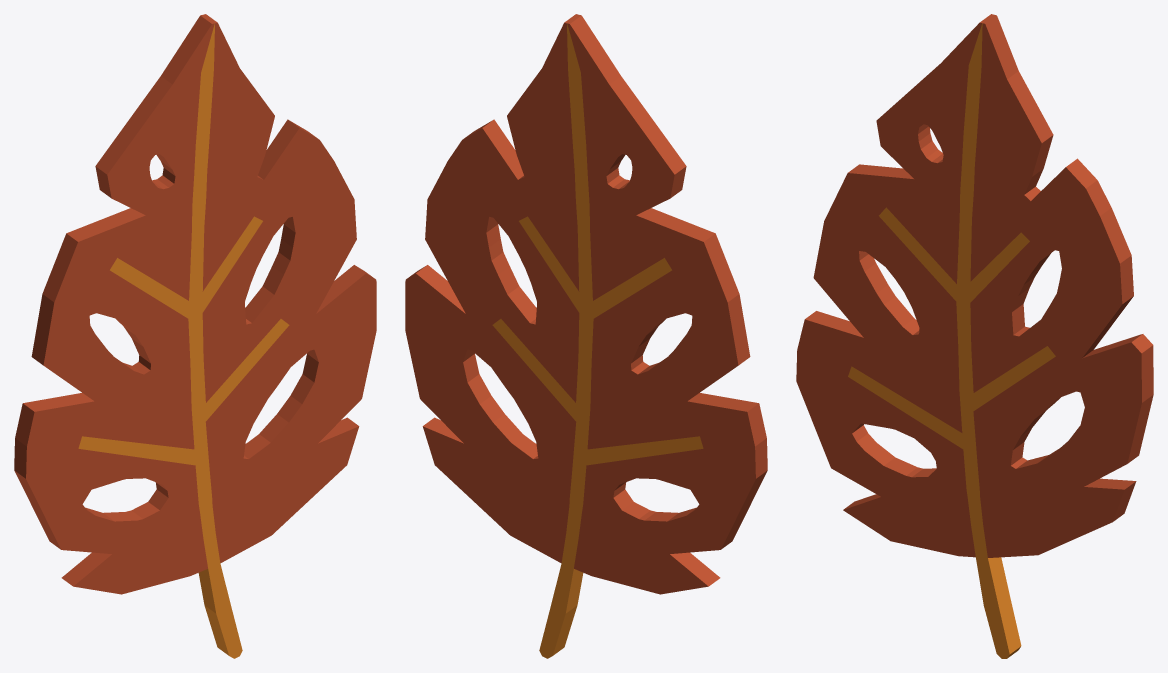
The model's file is Yaprak.fbx.
3 views of the same model, side by side, from view 1: azimuth 30°, elevation 25°; view 2: azimuth 150°, elevation 25°; view 3: azimuth 330°, elevation 25° (orthographic).
Parts seen in each view (by area): view 1: Cube; view 2: Cube; view 3: Cube.
Part boxes in pixels (<box>): Cube: <box>14,14,376,658</box>; Cube: <box>405,14,767,658</box>; Cube: <box>796,14,1153,658</box>.
Bounding box in the file's own units: 9.51 × 16.59 × 0.5572.
